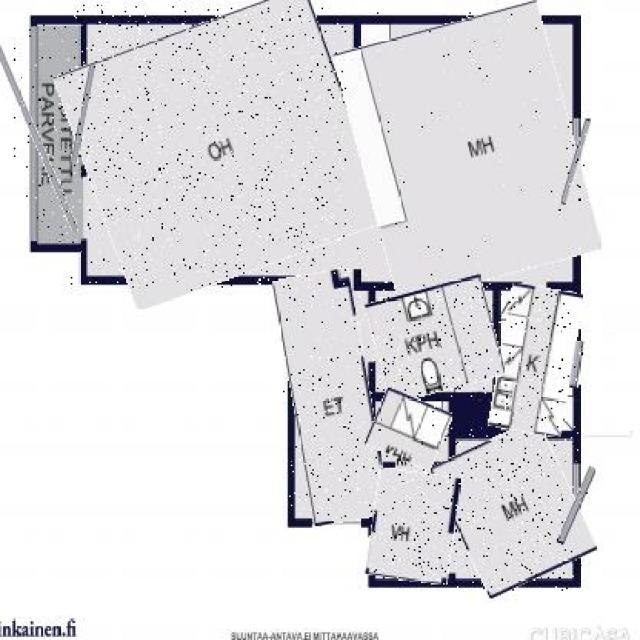window: (11, 29, 57, 237), (564, 465, 588, 546), (566, 118, 585, 204), (75, 65, 91, 163), (571, 340, 583, 388)
zone: (71, 4, 372, 290), (346, 12, 588, 291), (283, 271, 382, 523), (442, 428, 584, 590), (371, 281, 498, 397), (494, 286, 578, 434), (37, 24, 83, 244), (369, 471, 457, 582), (369, 394, 449, 464)
